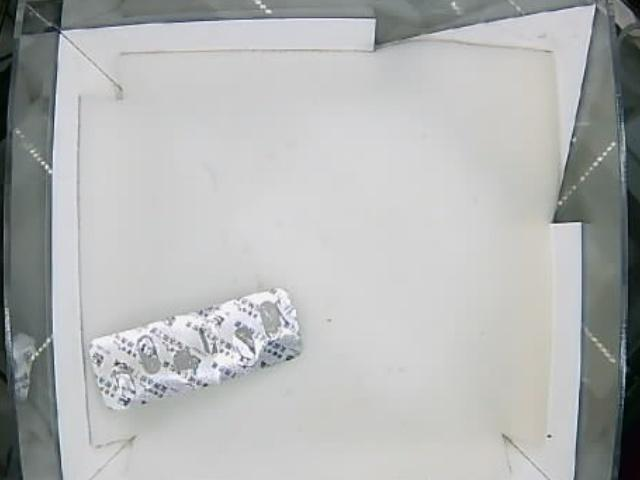Medicine: (85, 289, 303, 411)
